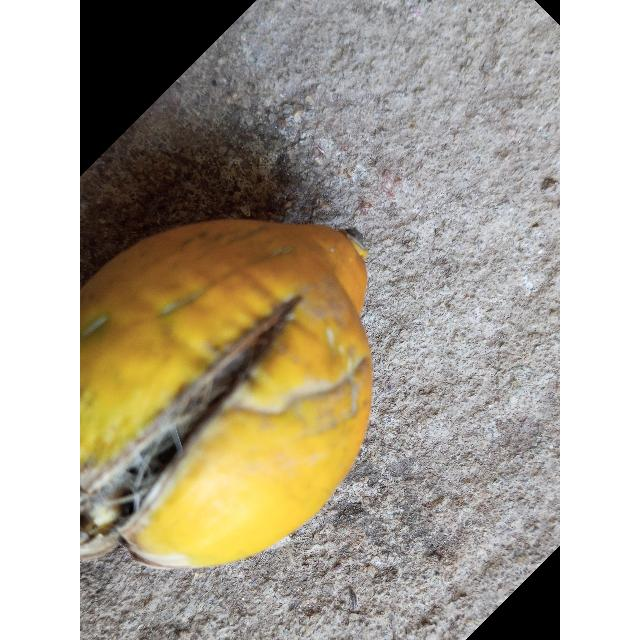damaged: (80, 220, 372, 569)
